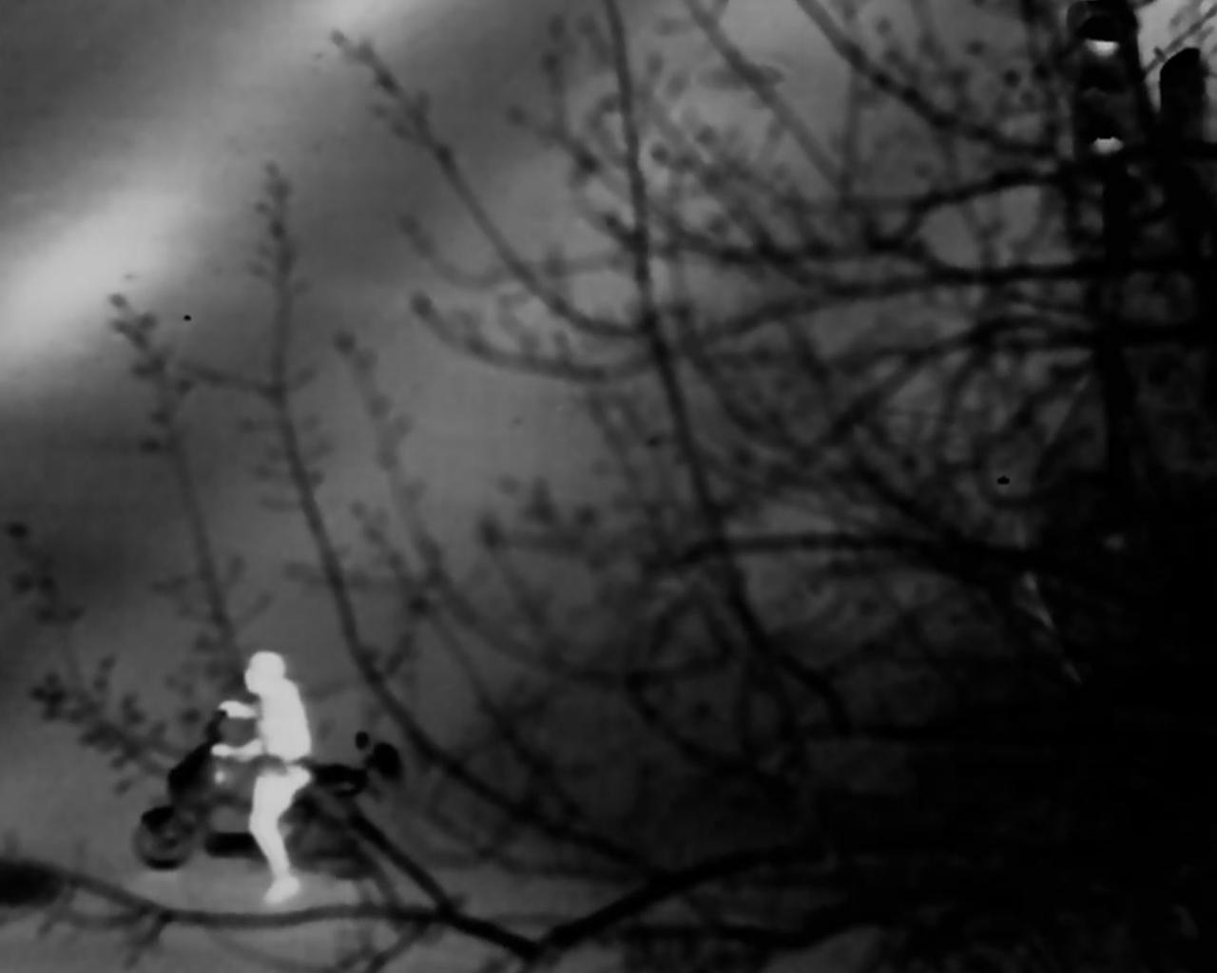person: (217, 651, 324, 897)
